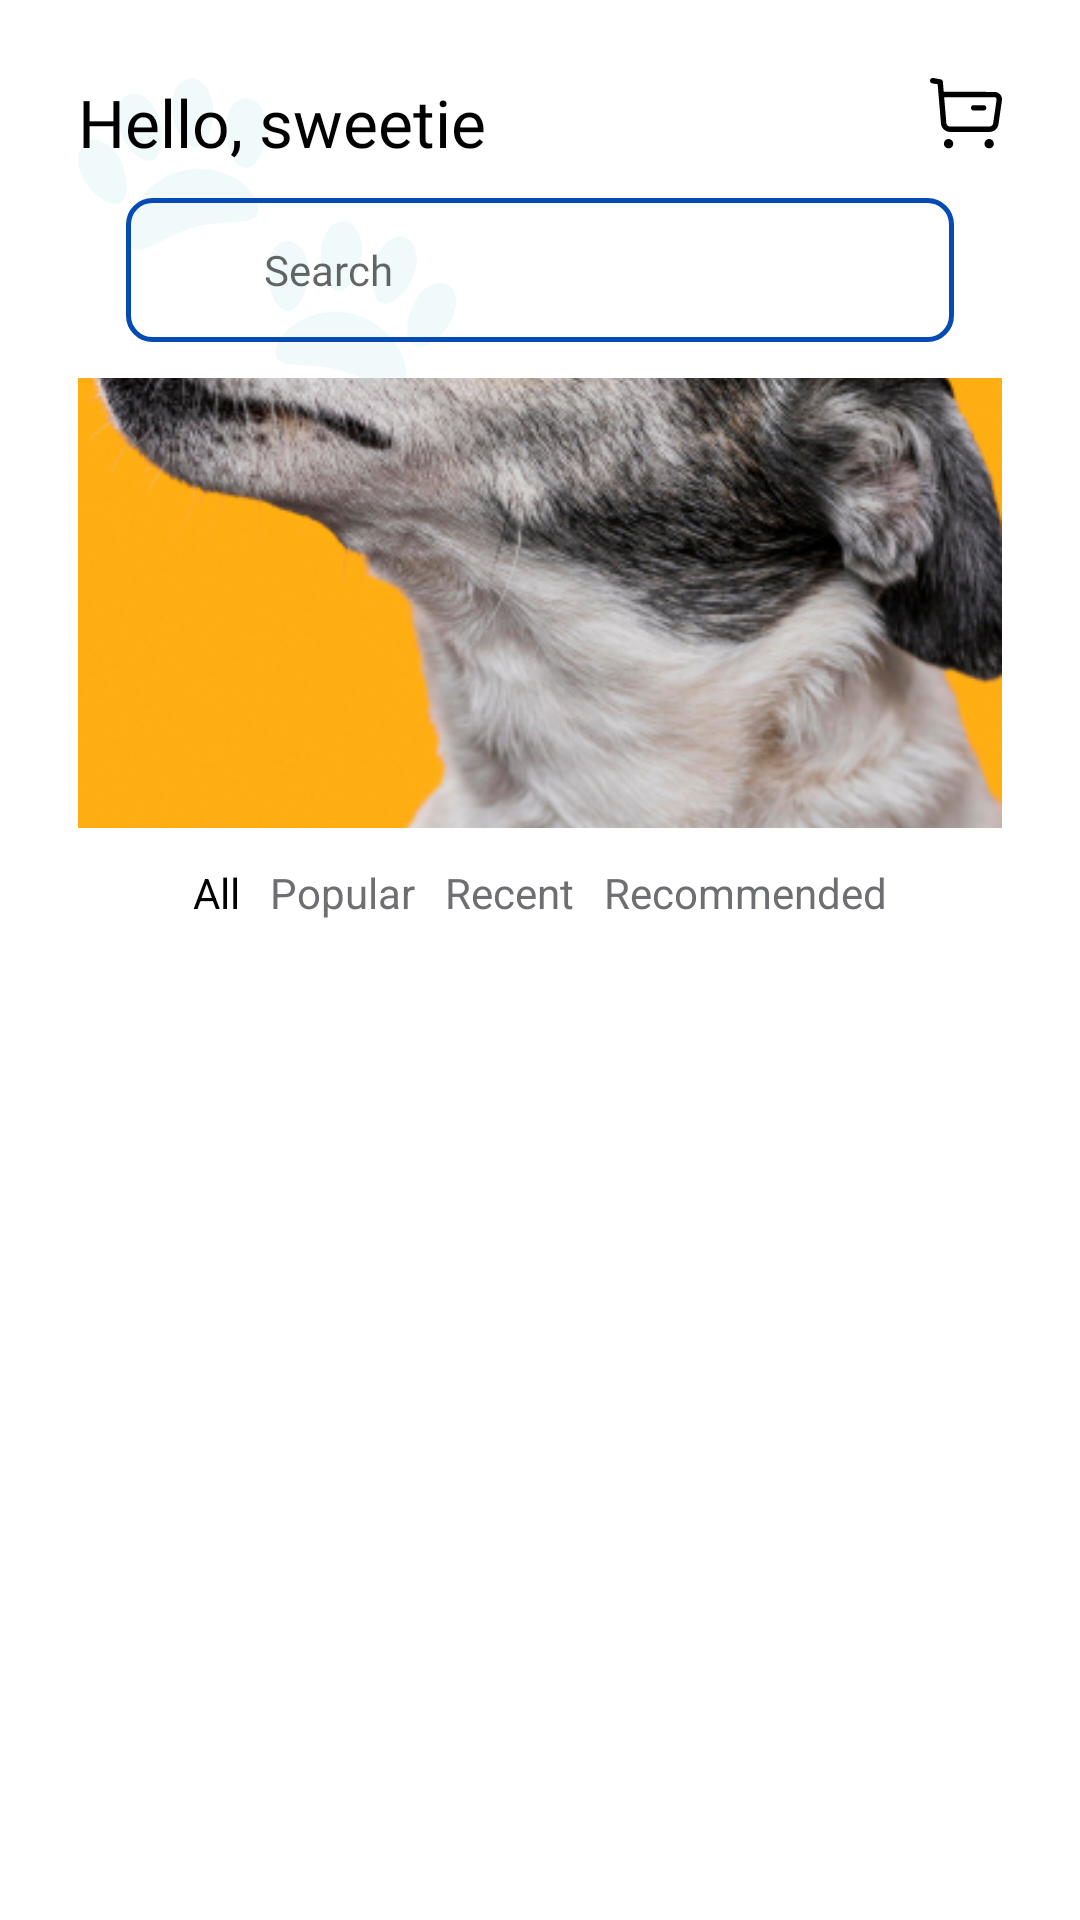

Screen size 1080*1920. Icon name, then its box in pixels as region(x1, y1, x2, y2):
buy: region(930, 78, 1002, 149)
